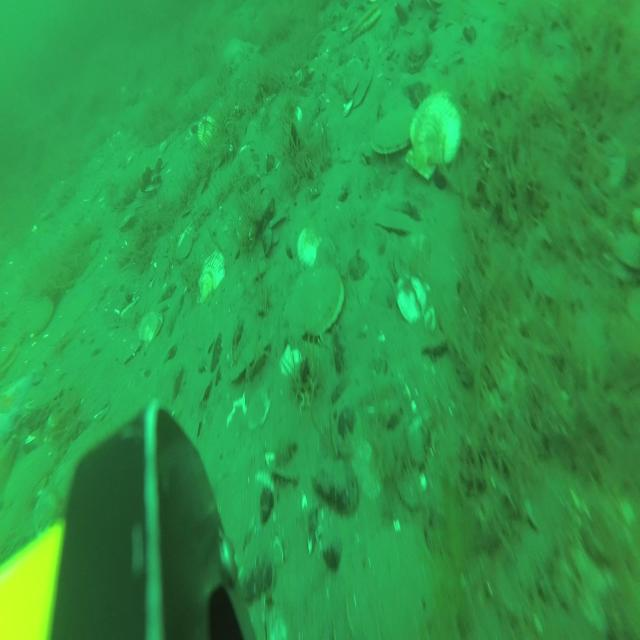scallop: (406, 91, 459, 176), (287, 267, 342, 342), (372, 101, 413, 153), (296, 222, 334, 266), (396, 274, 426, 326), (197, 252, 226, 301), (28, 290, 55, 336), (351, 5, 382, 40), (350, 68, 371, 110), (138, 312, 162, 346), (315, 240, 337, 276), (177, 220, 198, 257), (2, 334, 20, 377), (344, 60, 362, 98), (198, 118, 216, 148)
starfish: (1, 370, 29, 446), (222, 36, 254, 68)
